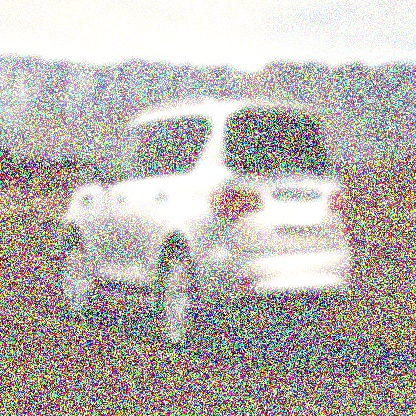Vehicle: (58, 96, 357, 355)
